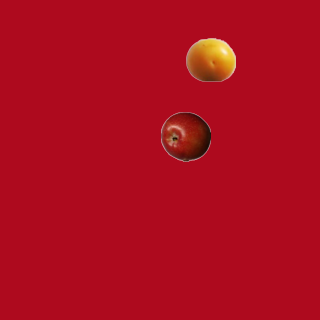Apple Braeburn: (160, 111, 210, 161)
Cherry Wax Yellow: (185, 34, 235, 84)
